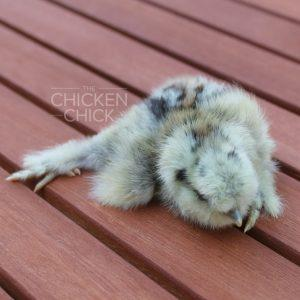AbNormal: (10, 61, 300, 226)
